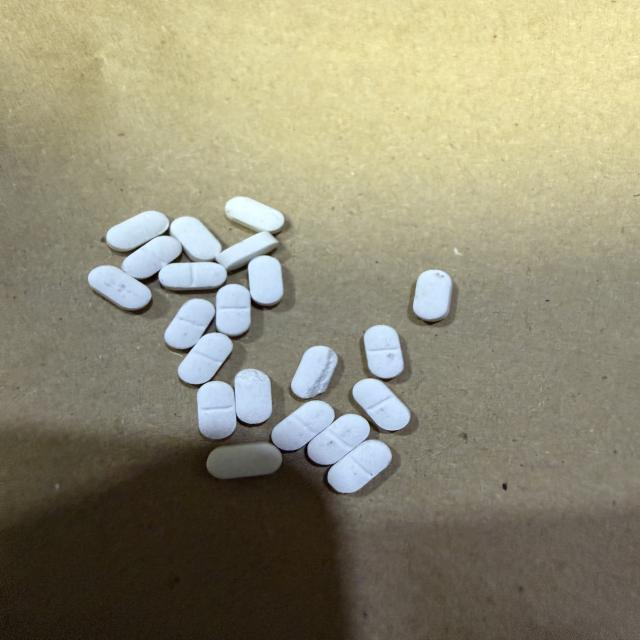pill: (327, 440, 391, 493), (307, 414, 370, 465), (271, 401, 334, 450), (352, 379, 410, 430), (88, 266, 151, 310), (178, 333, 232, 384), (207, 443, 282, 479), (122, 236, 182, 279), (106, 211, 169, 251), (165, 299, 215, 349), (291, 346, 337, 399), (216, 232, 278, 271), (197, 381, 236, 439), (170, 217, 221, 261), (364, 325, 404, 378), (226, 197, 284, 233), (235, 369, 272, 424), (413, 270, 452, 322), (159, 262, 227, 290), (216, 284, 250, 336), (248, 256, 283, 306)
